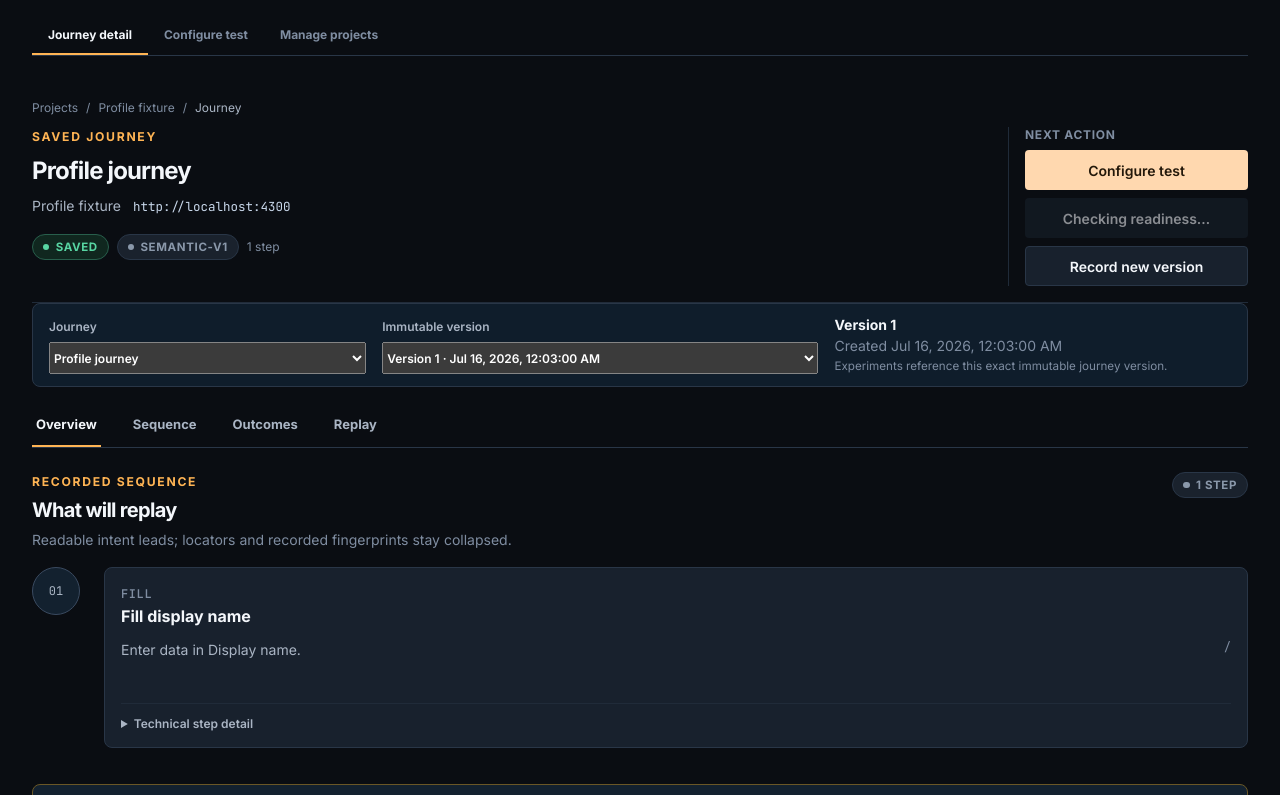
Scenario: external project journey workflow › offers direct authentication recapture when replay detects an expired session
Click the button "Manage projects": coordinates (329, 35) [264,15,394,55]
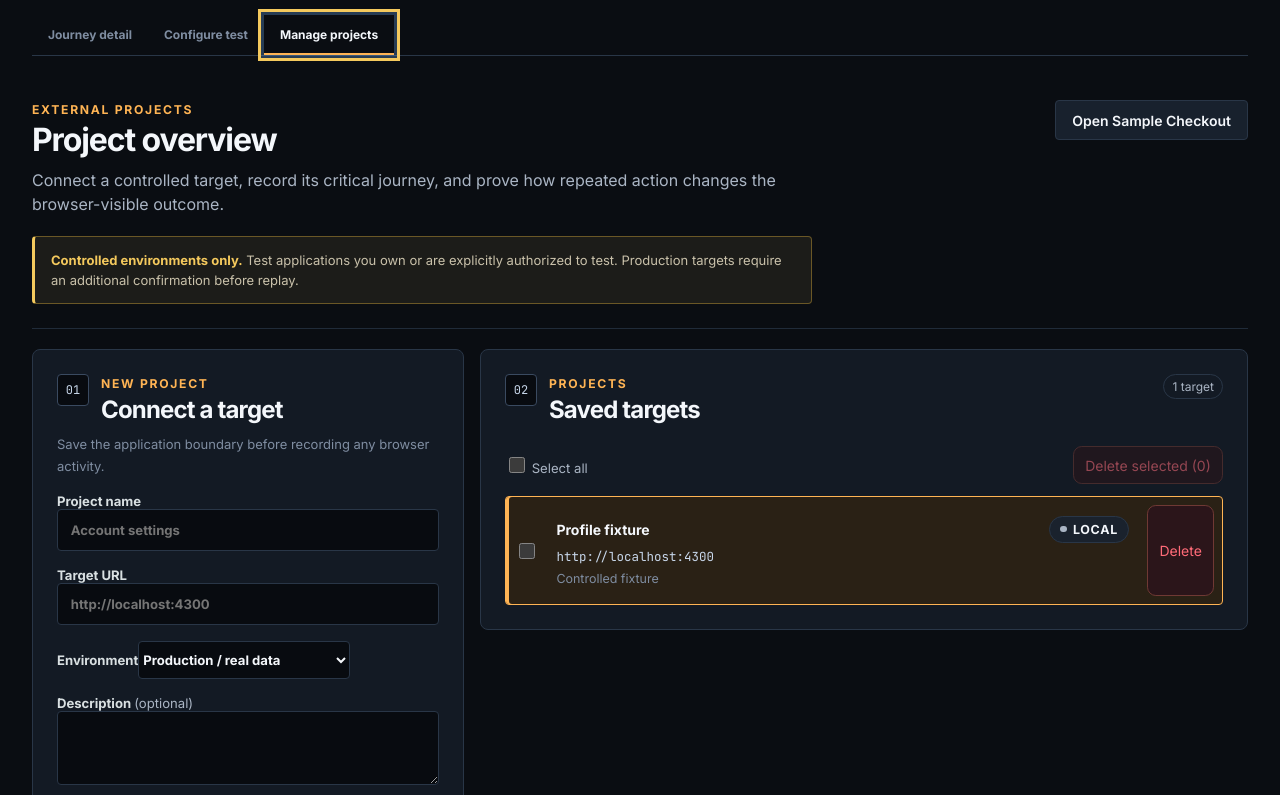
Expected: the heading "Project overview" is shown, [32,120,276,159]
Click the button "Journey detail": coordinates (90, 35) [32,15,148,55]
(page scrolled)
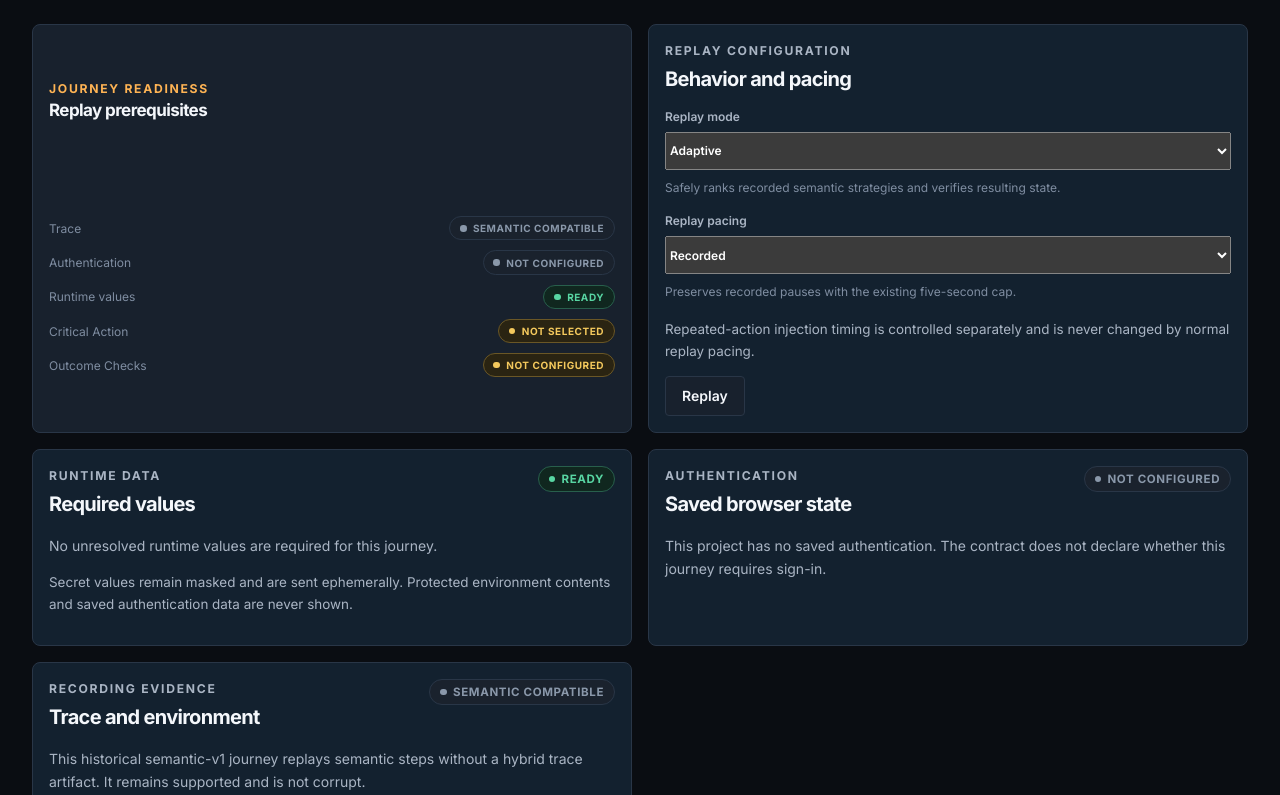
Click the button "Replay": coordinates (705, 396) [665,376,745,416]
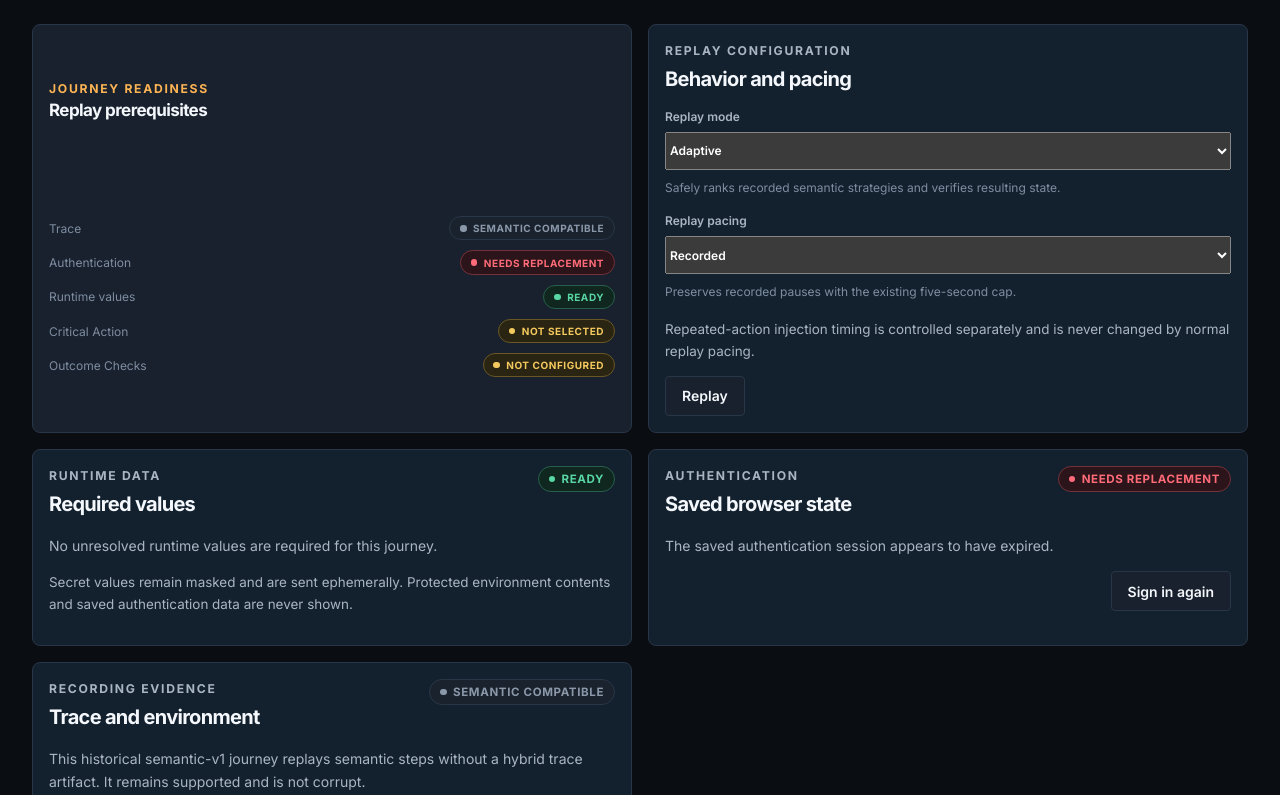
Expected: the text "The saved authentication session appears to have expired." is shown, [665,537,1054,554]
Click the button "Sign in again": coordinates (1171, 591) [1110,571,1231,611]
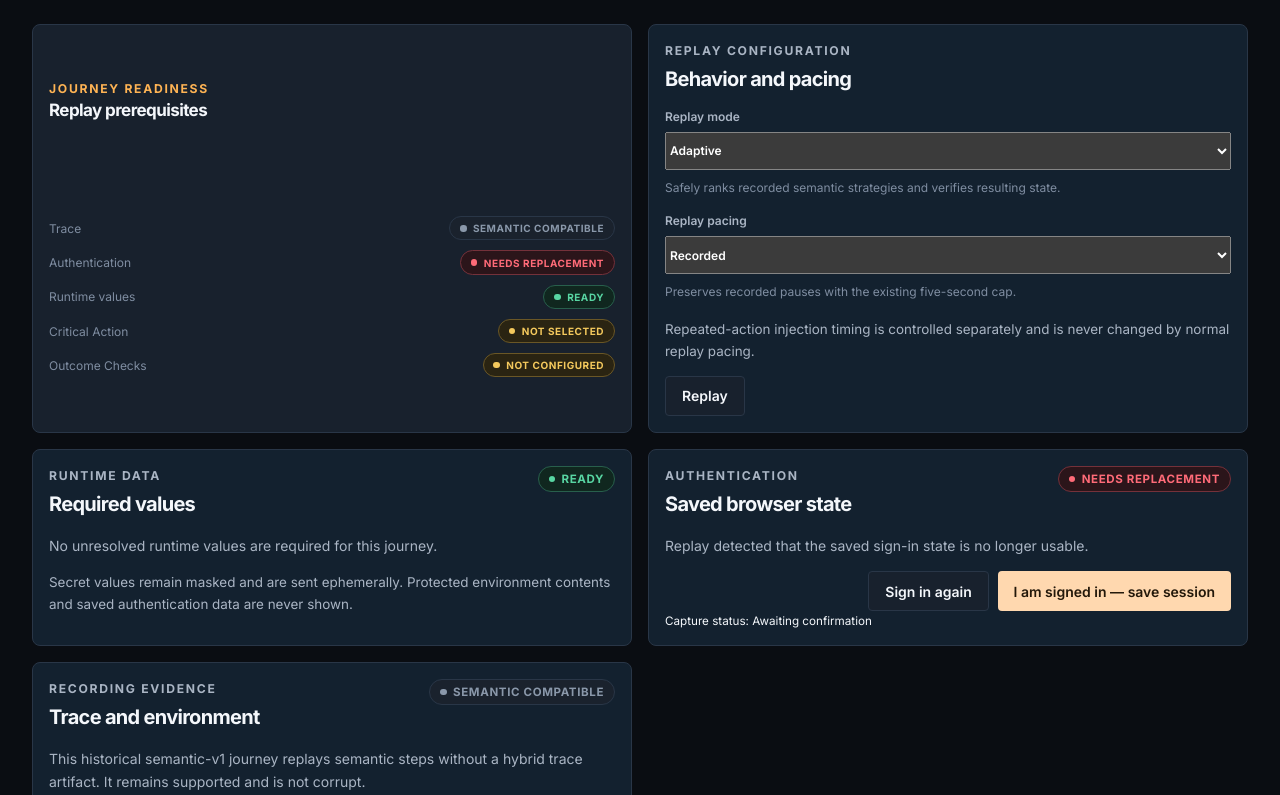
Click the button "I am signed in — save session": coordinates (1114, 591) [998,571,1231,611]
(page scrolled)
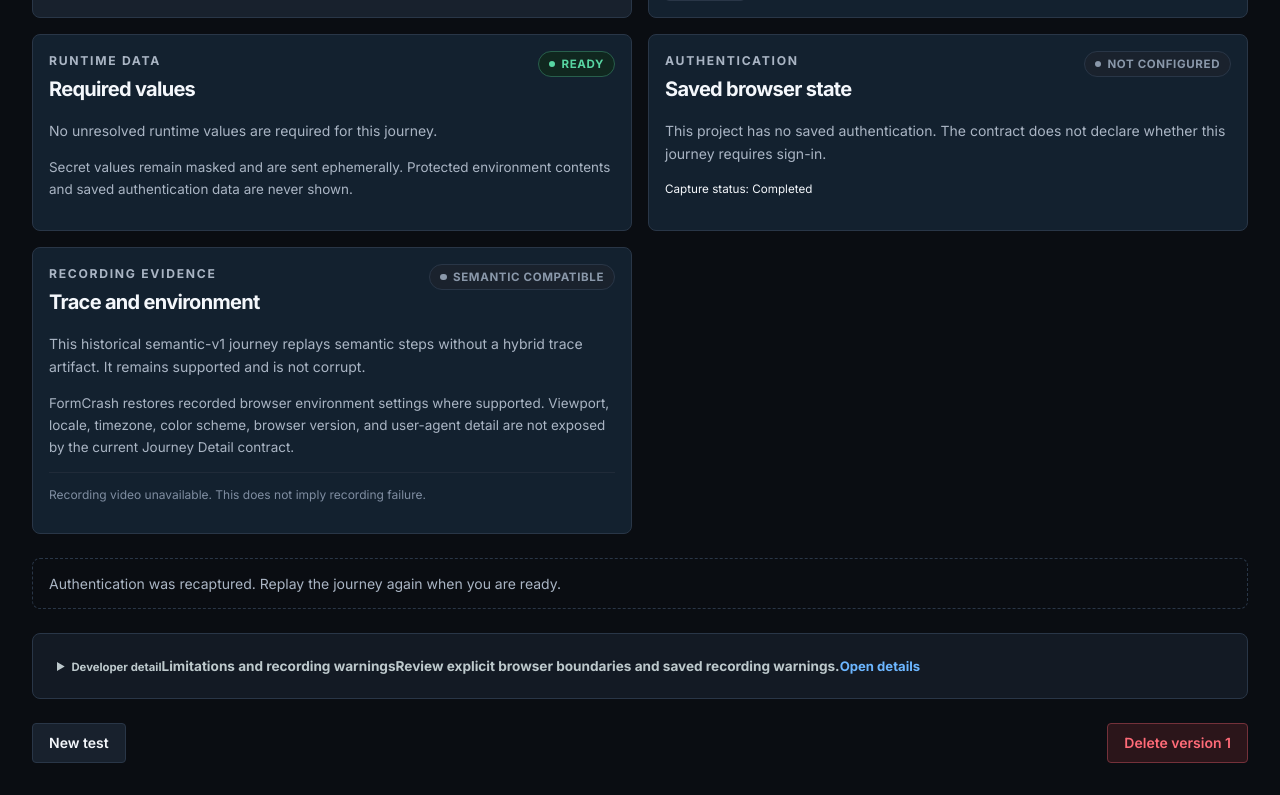
Expected: the text "Authentication was recaptured. Replay the journey again when you are ready." is shown, [32,558,1248,609]
